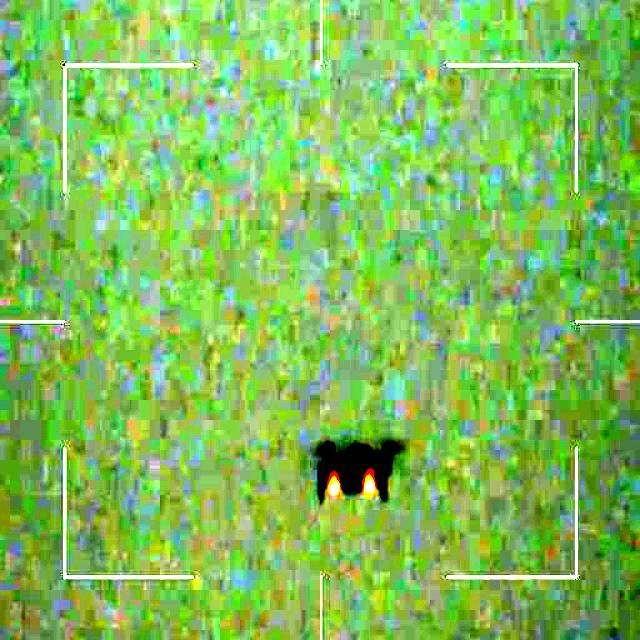bird: (312, 438, 404, 506)
